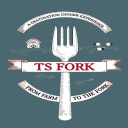fork: (47, 23, 82, 120)
